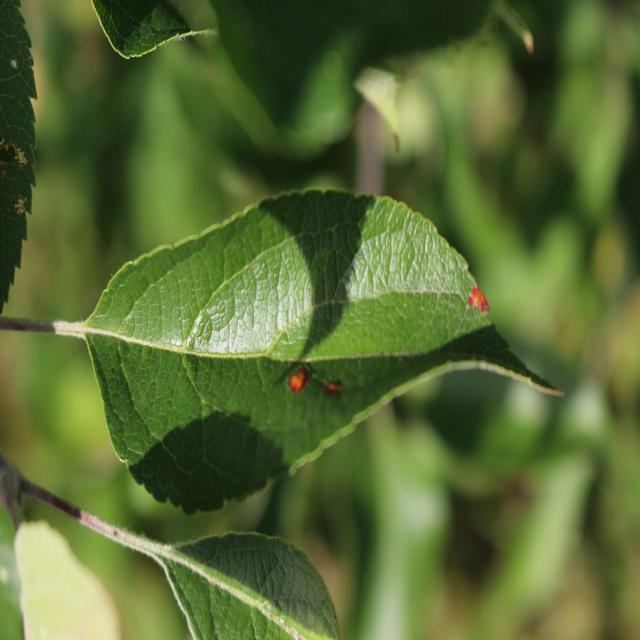Rust: (464, 263, 494, 333), (284, 357, 314, 408), (325, 354, 346, 421)
